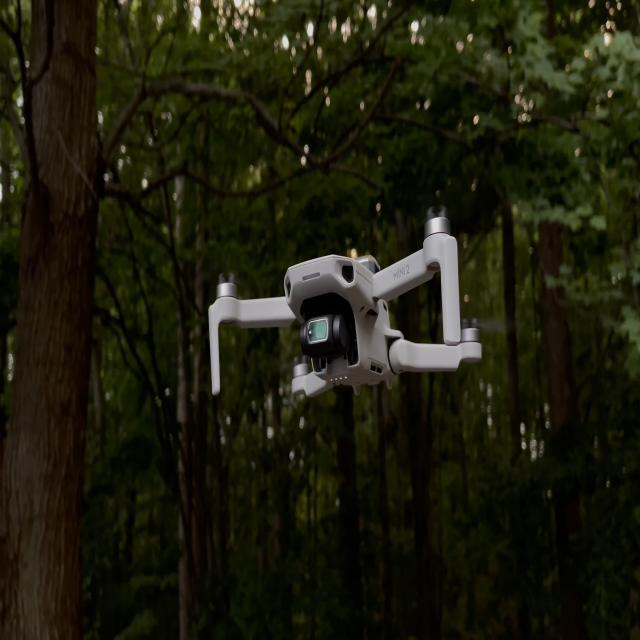Drone: (205, 217, 479, 397)
